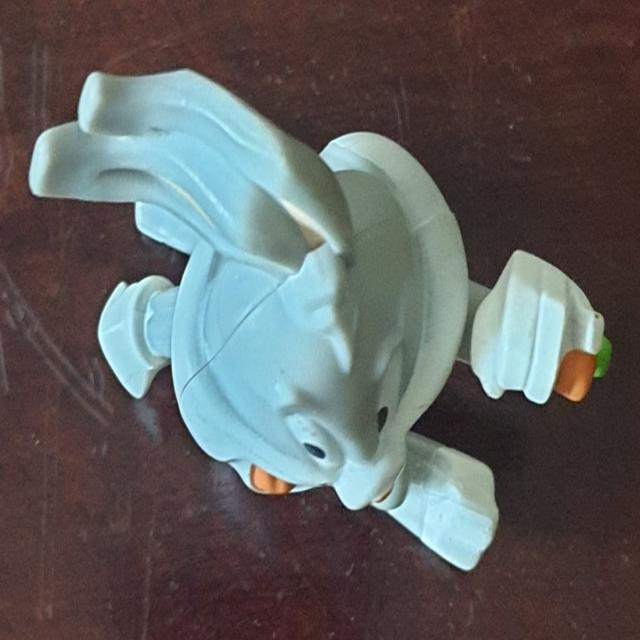Rabbit: (28, 66, 612, 572)
